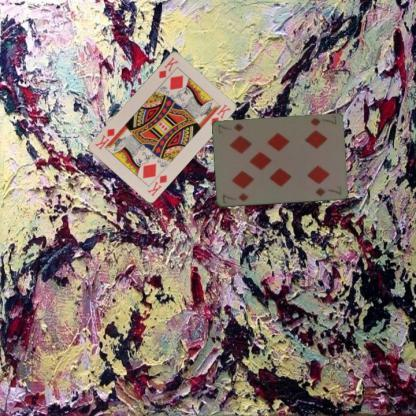7d: (308, 114, 338, 128), (220, 190, 249, 204)
Kd: (156, 54, 180, 80), (144, 172, 168, 198)
